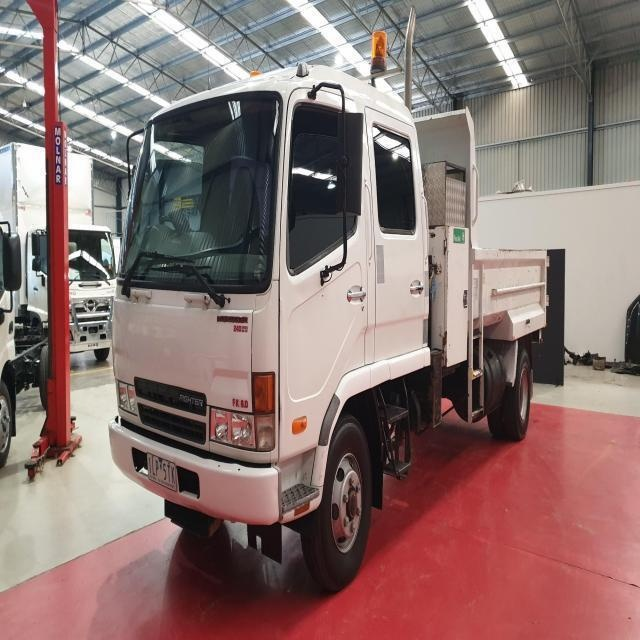Truck: (108, 61, 554, 586), (0, 140, 118, 372)
